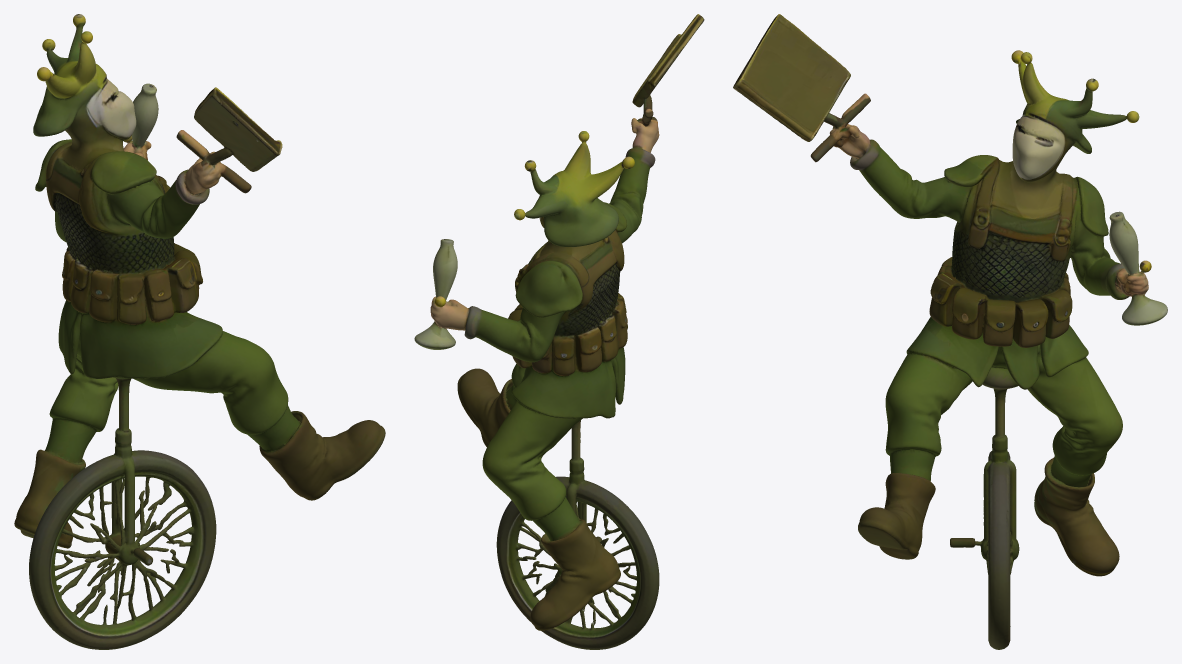
3 renders of one model, left to right at view 1: azimuth 30°, elevation 25°; view 2: azimuth 150°, elevation 25°; view 3: azimuth 270°, elevation 25°, orthographic. The views are drawn at different scales.
Parts seen in each view (by area): view 1: tripo_node_688d2b4a-1d44-4204-82ff-979e103274d5; view 2: tripo_node_688d2b4a-1d44-4204-82ff-979e103274d5; view 3: tripo_node_688d2b4a-1d44-4204-82ff-979e103274d5.
Part boxes in pixels (x1,y1,x2,y2): tripo_node_688d2b4a-1d44-4204-82ff-979e103274d5: [14, 14, 385, 649]; tripo_node_688d2b4a-1d44-4204-82ff-979e103274d5: [414, 14, 704, 649]; tripo_node_688d2b4a-1d44-4204-82ff-979e103274d5: [733, 14, 1167, 649].
Size of the model in its own units: 0.4683 by 1 by 0.6401.
Materials: 1 (1 with a texture image).
